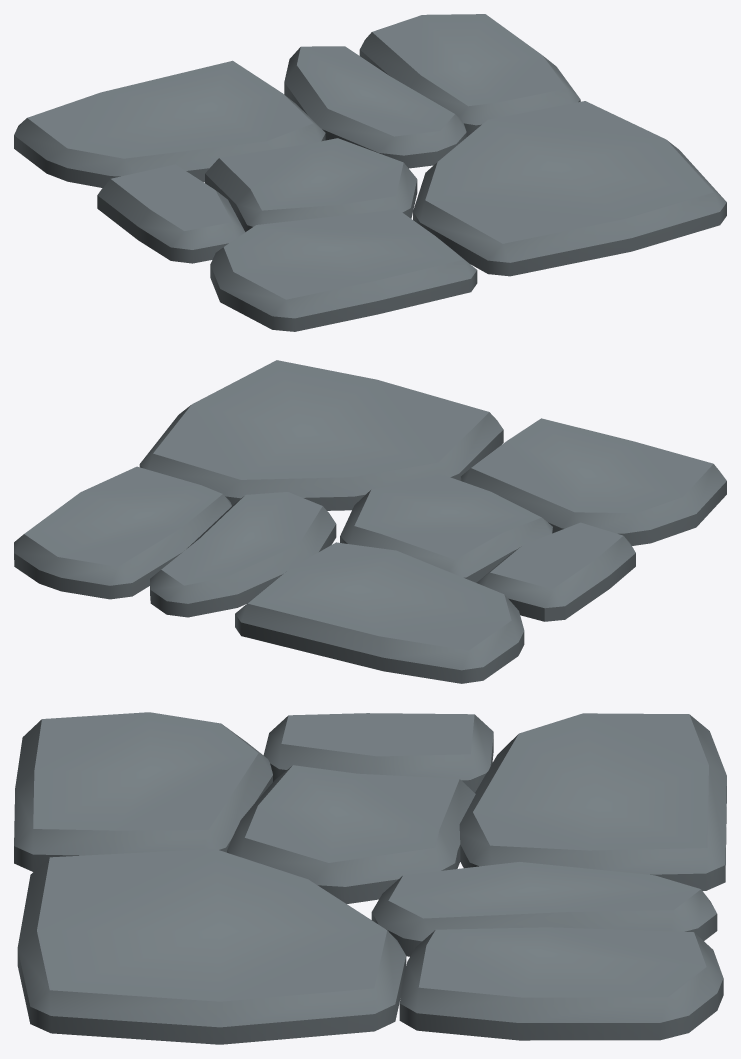
The model's file is path_B.obj.
3 renders of one model, top to bottom at view 1: azimuth 30°, elevation 25°; view 2: azimuth 150°, elevation 25°; view 3: azimuth 270°, elevation 25°, orthographic. The views are drawn at different scales.
Visible parts, largest first — view 1: path_B_Cube.698; view 2: path_B_Cube.698; view 3: path_B_Cube.698.
Boxes of the visible parts, box(x1,y1,x2,y2) form: path_B_Cube.698: box(14, 14, 726, 331); path_B_Cube.698: box(14, 360, 726, 683); path_B_Cube.698: box(14, 712, 726, 1044).
Bounding box in the file's own units: 1.89 × 0.1 × 1.86.
Materials: 1 (1 with a texture image).
